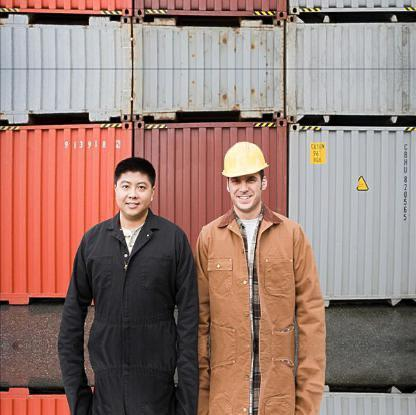helmet: (220, 140, 271, 180)
